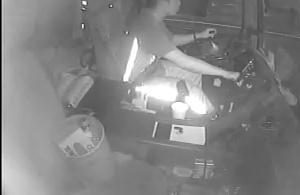cup: (169, 101, 190, 119)
